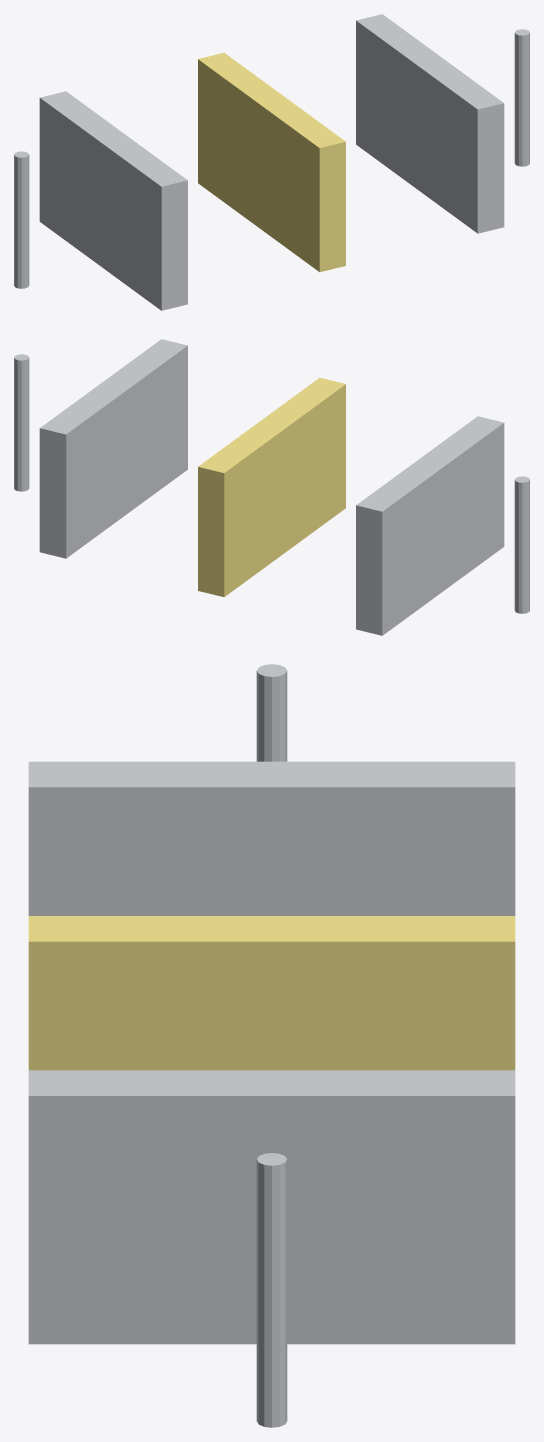
The model's file is Toy_Bars.fbx.
3 renders of one model, top to bottom at view 1: azimuth 30°, elevation 25°; view 2: azimuth 150°, elevation 25°; view 3: azimuth 270°, elevation 25°, orthographic. The views are drawn at different scales.
Parts seen in each view (by area): view 1: Toy_Bars; view 2: Toy_Bars; view 3: Toy_Bars.
Part boxes in pixels (bbox=[...]): Toy_Bars: bbox=[14, 14, 529, 310]; Toy_Bars: bbox=[14, 339, 529, 635]; Toy_Bars: bbox=[28, 664, 515, 1427].
Bounding box in the file's own units: 3.9 × 0.95 × 1.6.
